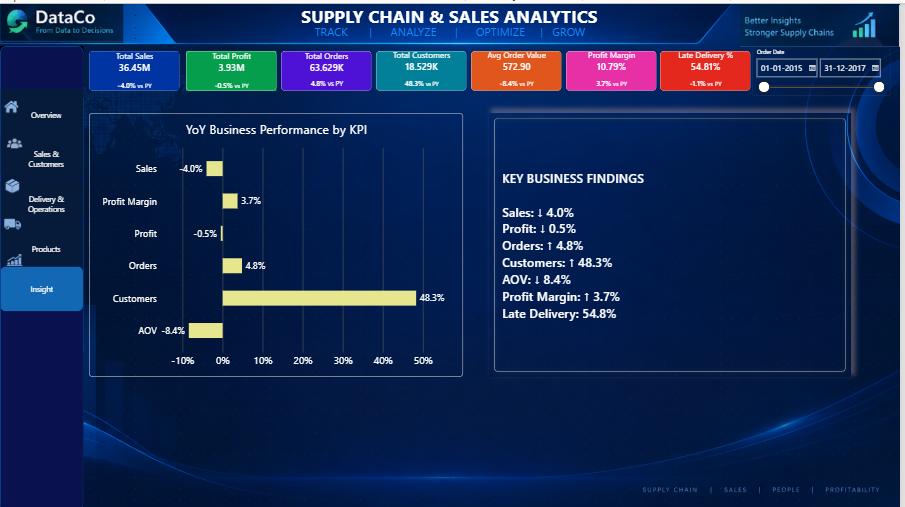

What the dashboard file says about the page in this screenshot:
{"tool":"powerbi","page":{"name":"Insight","canvas":[1920,1080],"ordinal":4},"visuals":[{"type":"textbox","box":[488,0,940.8,83.2],"z":0},{"type":"group","id":"g1","title":"Group 10","box":[0,88.6,178.6,991.4],"z":0,"group":"g2"},{"type":"shape","box":[0,88.6,178,991.4],"z":500,"group":"g1"},{"type":"textbox","box":[535.5,42.7,849.1,40.5],"z":1000},{"type":"image","box":[6.4,277.3,49.8,40.5],"z":1000,"group":"g2"},{"type":"image","box":[0,0,264.5,83.2],"z":2000},{"type":"slicer","fields":{"Values":["DateTable.Date"]},"box":[1606.7,94.3,292,100],"z":2000},{"type":"image","box":[4.3,193.1,39.9,50.6],"z":2000,"group":"g2"},{"type":"image","box":[1578.7,0,341.3,93.9],"z":3000},{"type":"image","box":[6.4,361.5,39.9,50.6],"z":3000,"group":"g2"},{"type":"cardVisual","fields":{"Data":["public dataco_raw.Profit Margin"]},"box":[1920,114.3,192.9,85.7],"z":4000},{"type":"image","box":[6.4,443.5,39.9,50.6],"z":4000,"group":"g2"},{"type":"clusteredBarChart","fields":{"Category":["Insight KPI.KPI"],"Y":["public dataco_raw.Insight YoY %"]},"box":[190,232.9,797.9,563.2],"z":5000},{"type":"image","box":[10.6,519,39.9,50.6],"z":5000,"group":"g2"},{"type":"cardVisual","fields":{"Data":["public dataco_raw.Dynamic Business Findings"]},"box":[1042.9,232.9,772.3,563.2],"z":6000},{"type":"group","id":"g2","title":"Group 11","box":[0,88.6,178.6,991.4],"z":8000},{"type":"pageNavigator","box":[0,177.8,178.6,481.3],"z":22000,"group":"g1"},{"type":"cardVisual","fields":{"Data":["Sum(public dataco_raw.Sales)"]},"box":[190,100.9,193,85],"z":31000},{"type":"cardVisual","fields":{"Data":["Sum(public dataco_raw.Order Profit Per Order)"]},"box":[396.7,100.9,193,85],"z":33000},{"type":"cardVisual","fields":{"Data":["Count(public dataco_raw.Order Id)"]},"box":[600,100.9,193,85],"z":35000},{"type":"cardVisual","fields":{"Data":["Count(public dataco_raw.Customer Id)"]},"box":[803,100.9,193,85],"z":37000},{"type":"cardVisual","fields":{"Data":["public dataco_raw.AOV"]},"box":[1005,100.9,193,85],"z":39000},{"type":"cardVisual","fields":{"Data":["public dataco_raw.Profit Margin"]},"box":[1208.3,100.9,193,85.7],"z":41000},{"type":"cardVisual","fields":{"Data":["public dataco_raw.Late Delivery %"]},"box":[1408.3,100.9,193,85.7],"z":44000}]}

Visuals, with their boxes in screenshot pixels (x1, y1, x2, y2), scaled from the page's 1920x1080 canvas onto the 905x507 screenshot:
textbox: bbox=(230, 0, 673, 39)
"Group 10" group: bbox=(0, 42, 84, 506)
shape: bbox=(0, 42, 84, 506)
textbox: bbox=(252, 20, 653, 39)
image: bbox=(3, 130, 26, 149)
image: bbox=(0, 0, 125, 39)
slicer - DateTable.Date: bbox=(757, 44, 895, 91)
image: bbox=(2, 91, 21, 114)
image: bbox=(744, 0, 904, 44)
image: bbox=(3, 170, 22, 193)
image: bbox=(3, 208, 22, 232)
clusteredBarChart - Insight KPI.KPI x public dataco_raw.Insight YoY %: bbox=(90, 109, 466, 374)
image: bbox=(5, 244, 24, 267)
cardVisual - public dataco_raw.Dynamic Business Findings: bbox=(492, 109, 856, 374)
"Group 11" group: bbox=(0, 42, 84, 506)
pageNavigator: bbox=(0, 83, 84, 309)
cardVisual - Sum(public dataco_raw.Sales): bbox=(90, 47, 181, 87)
cardVisual - Sum(public dataco_raw.Order Profit Per Order): bbox=(187, 47, 278, 87)
cardVisual - Count(public dataco_raw.Order Id): bbox=(283, 47, 374, 87)
cardVisual - Count(public dataco_raw.Customer Id): bbox=(378, 47, 469, 87)
cardVisual - public dataco_raw.AOV: bbox=(474, 47, 565, 87)
cardVisual - public dataco_raw.Profit Margin: bbox=(570, 47, 661, 88)
cardVisual - public dataco_raw.Late Delivery %: bbox=(664, 47, 755, 88)
